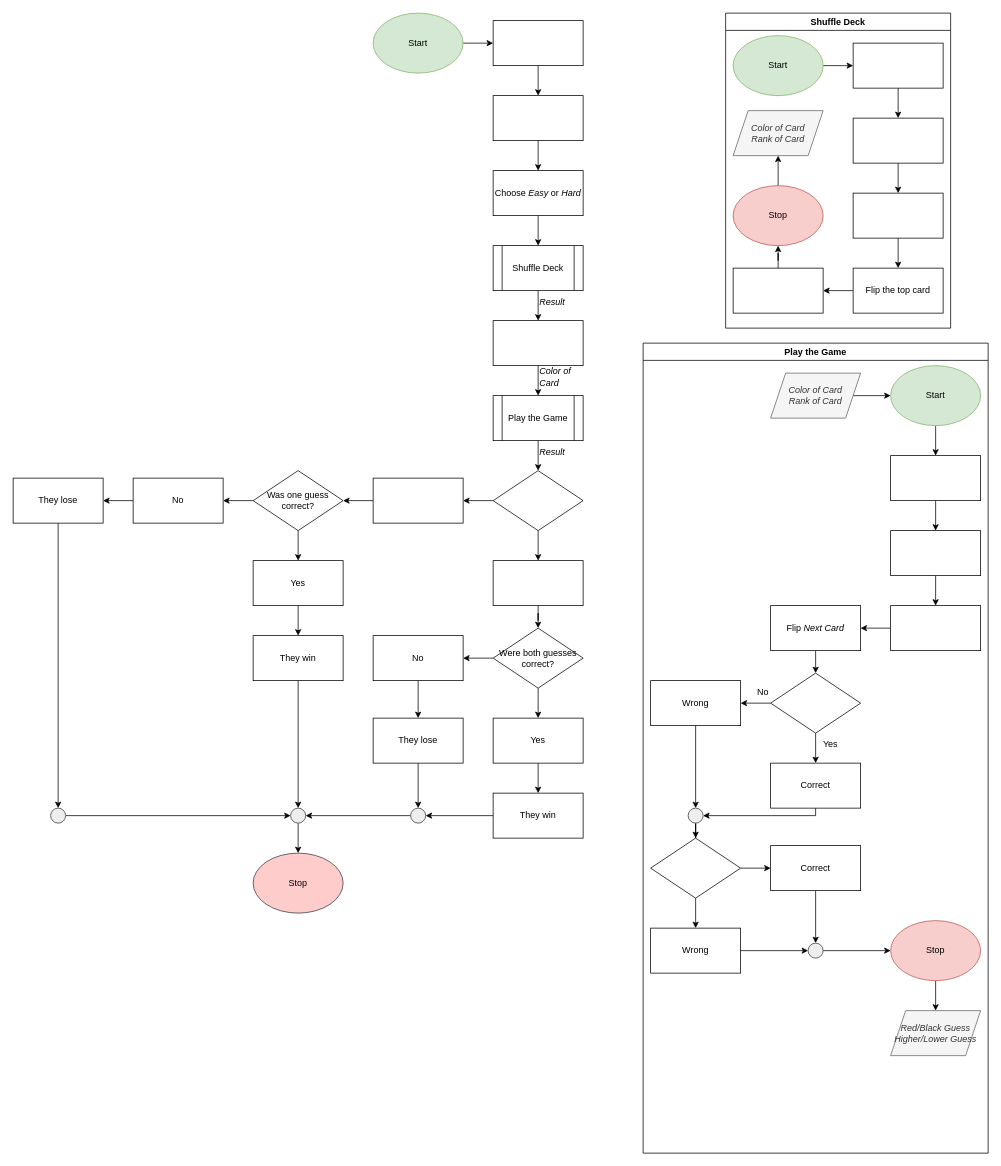
This 1001x1166 diagram has some shape labels left out. Each missing label, with the box of its shape:
Cut the Deck: (852, 117, 943, 163)
Did you choose Hard or Easy?: (492, 470, 583, 531)
Easy: (372, 477, 463, 523)
Hard: (492, 560, 583, 606)
Is Higher/Lower Guess correct?: (650, 837, 741, 898)
Is Next Card: Color the same as Red/Black Guess: (770, 672, 861, 733)
Place cards face down: (852, 192, 943, 238)
Set Choice to Easy: (492, 20, 583, 66)
Set Choice to Hard: (492, 95, 583, 141)
Set Color of Card to Result: (492, 320, 583, 366)
Set First Card to the top card: (732, 267, 823, 313)
Set Higher/Lower Guess to guess from other player: (890, 530, 981, 576)
Set Next Card to next card in the deck: (890, 605, 981, 651)
Set Red/Black Guess to guess from player: (890, 455, 981, 501)
Shuffle the cards: (852, 42, 943, 88)
